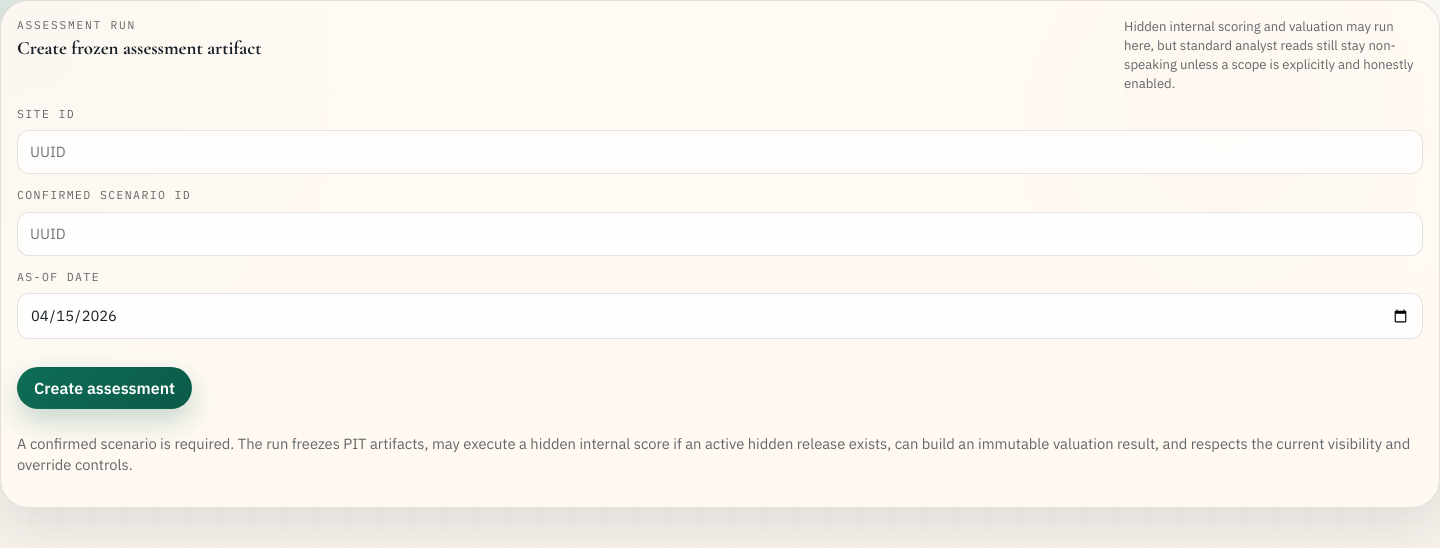
it: AssessmentRunBuilder › requires the key identifiers before submitting
The width and height of the screenshot is (1440, 548).
Click the button "Create assessment" at [104, 388], box [17,367,192,409]
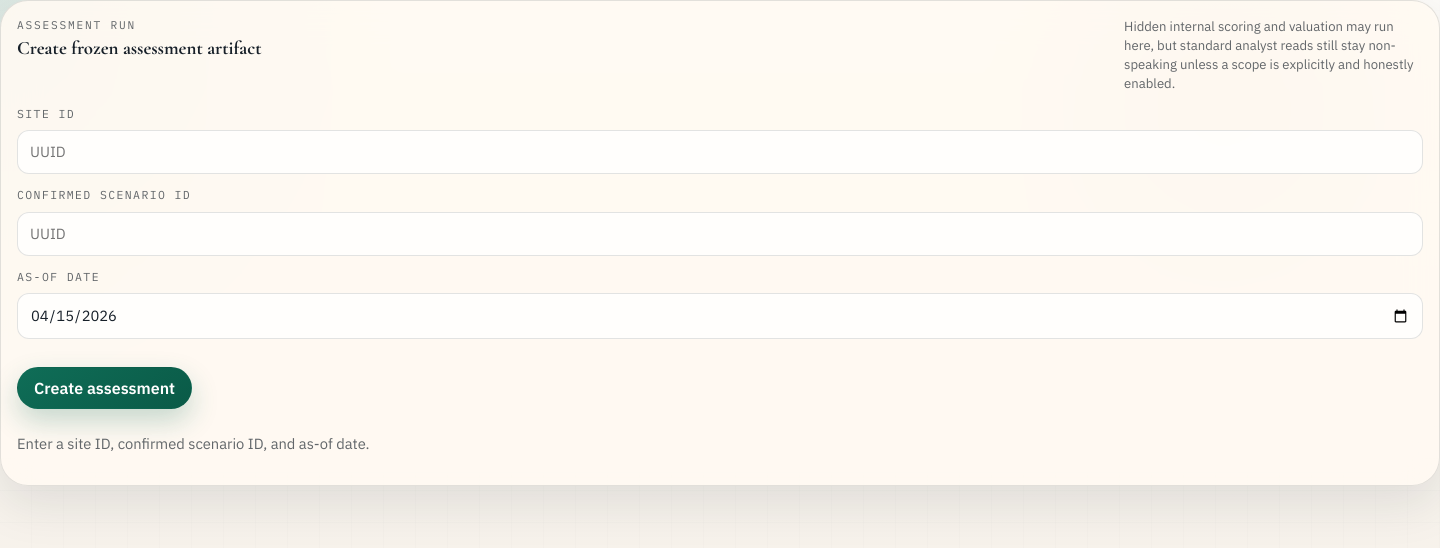
Result: the text "Enter a site ID, confirmed scenario ID, and as-of date." is shown at [17,434,370,453]
